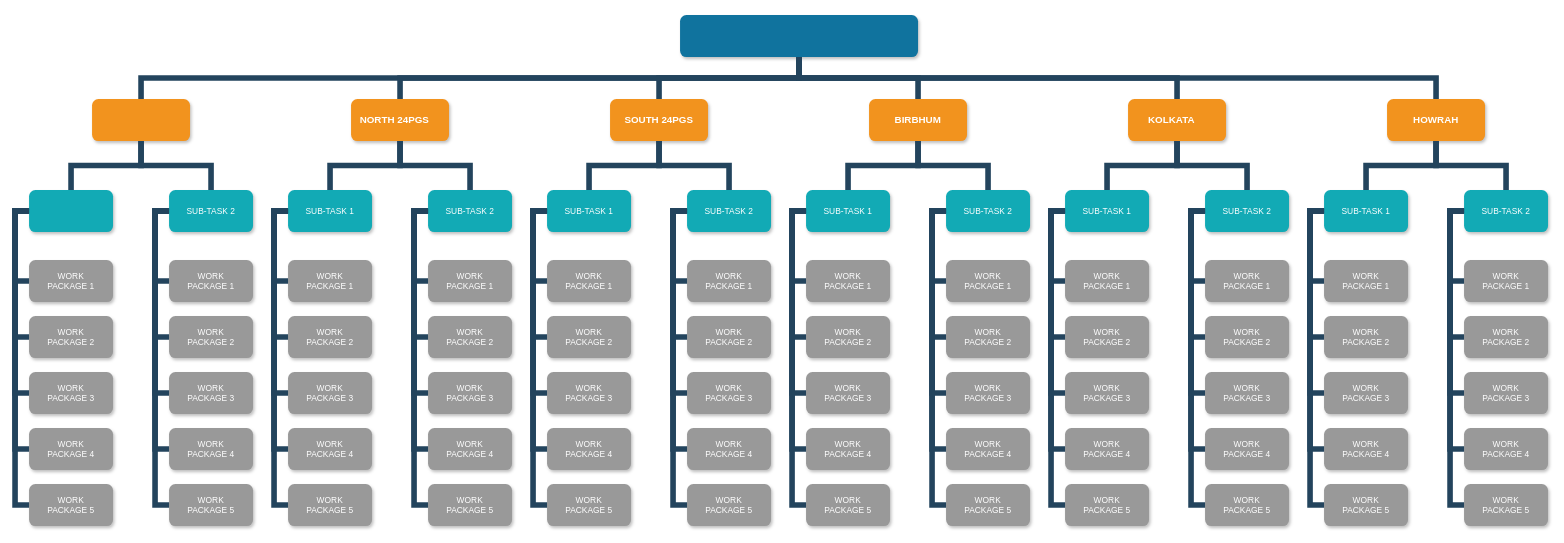
The diagram is 1564 pixels wide and 543 high, and some of its shapes have lost their labels. Here are the shapes that lost their labels. From the top down, the centre of each, then its label:
pixel 799 37: COMPANY COMMON PLATFORM
pixel 141 121: NADIA
